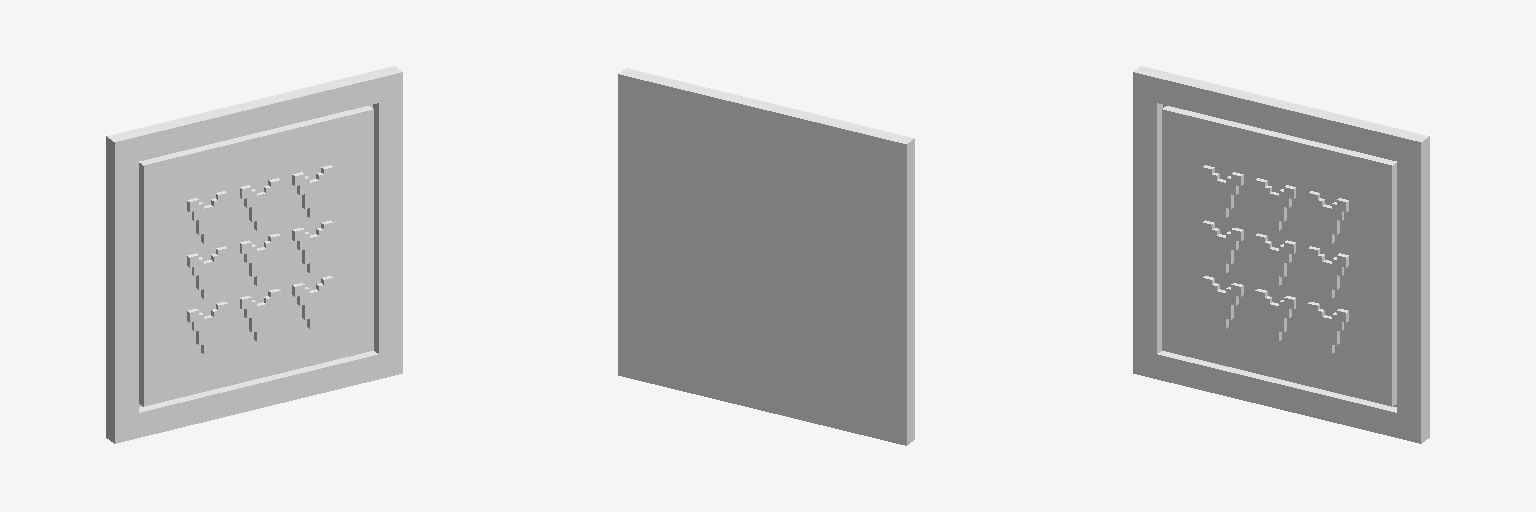
The model's file is balpan_9.obj.
3 renders of one model, left to right at view 1: azimuth 30°, elevation 25°; view 2: azimuth 150°, elevation 25°; view 3: azimuth 330°, elevation 25°, orthographic.
Visible parts, largest first — view 1: balpan_9; view 2: balpan_9; view 3: balpan_9.
Boxes of the visible parts, <box> form: balpan_9: <box>106,66,402,443</box>; balpan_9: <box>618,68,914,445</box>; balpan_9: <box>1133,66,1429,443</box>.
Size of the model in its own units: 60 by 60 by 4.